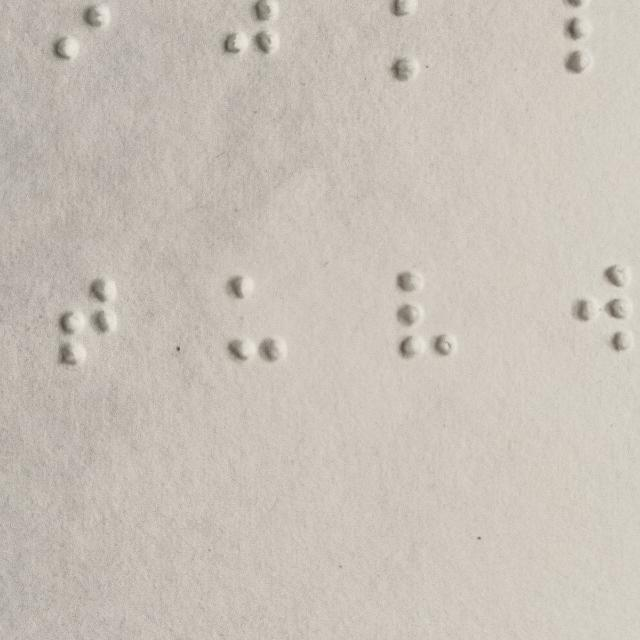bagaman: (395, 271, 457, 357)
tayo: (56, 279, 118, 366)
upang: (228, 277, 290, 364)
wala: (570, 266, 632, 353)
